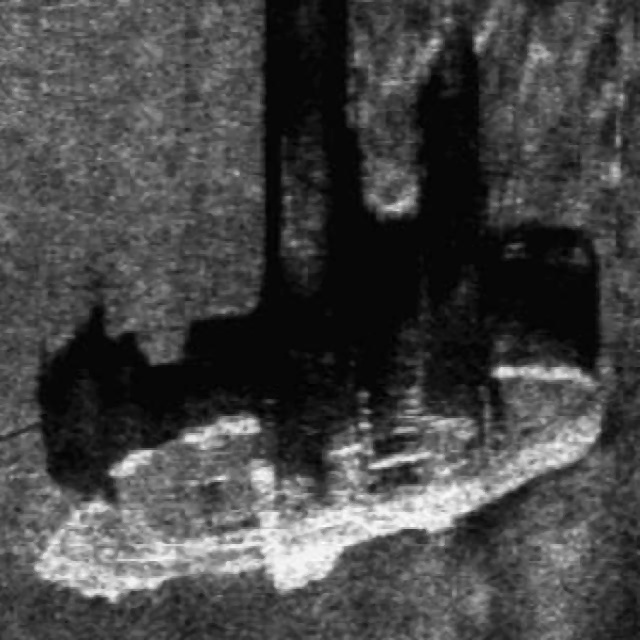Ship: (23, 299, 621, 612)
